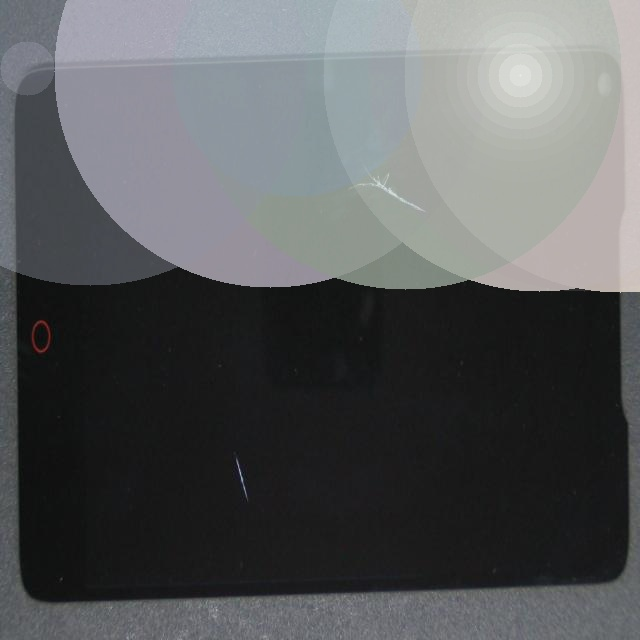scratch: (112, 184, 337, 640), (231, 129, 627, 285)
